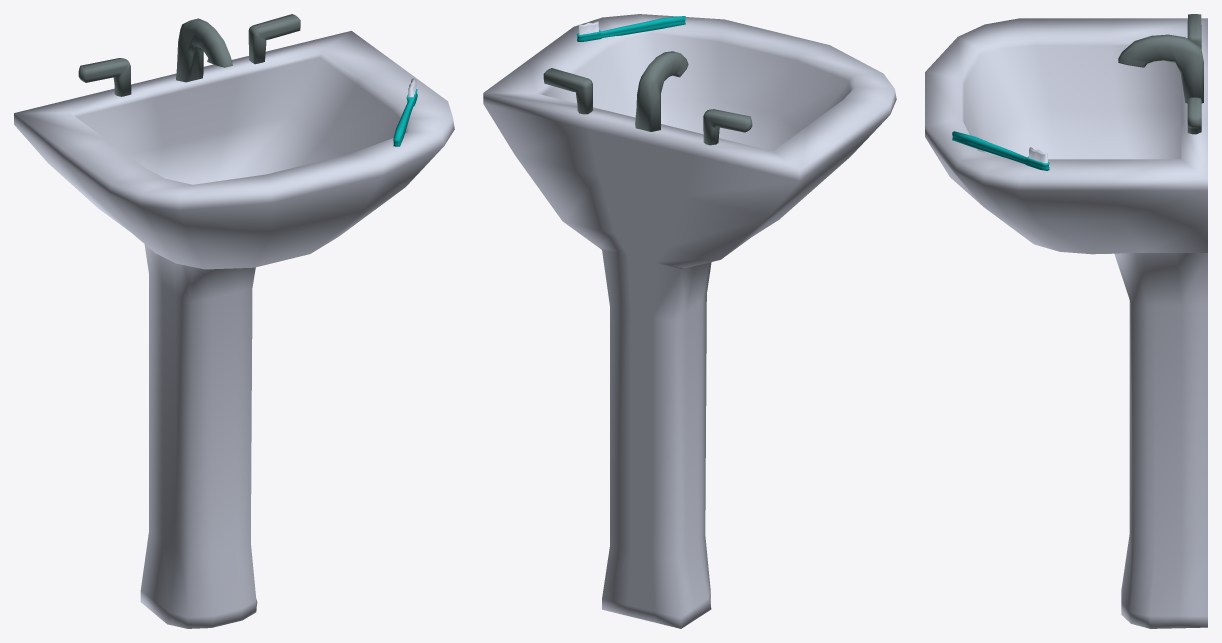
The model's file is Sink.fbx.
3 renders of one model, left to right at view 1: azimuth 30°, elevation 25°; view 2: azimuth 150°, elevation 25°; view 3: azimuth 270°, elevation 25°, orthographic. The views are drawn at different scales.
Parts seen in each view (by area): view 1: Sink, Sink Faucets, Toothbrush; view 2: Sink, Sink Faucets, Toothbrush; view 3: Sink, Sink Faucets, Toothbrush.
Part boxes in pixels (x1,y1,x2,y2): Sink: (14,31,454,628); Sink Faucets: (78,14,300,96); Toothbrush: (393,78,417,146); Sink: (483,14,896,628); Sink Faucets: (543,51,752,145); Toothbrush: (576,16,685,41); Sink: (925,18,1207,628); Sink Faucets: (1118,14,1203,134); Toothbrush: (952,131,1049,170).
Size of the model in its own units: 60.8 by 100 by 45.1.
